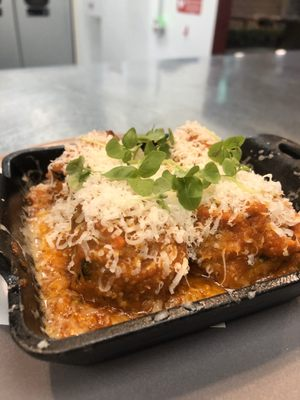curry: (0, 45, 300, 375)
sandwich: (1, 122, 300, 340)
